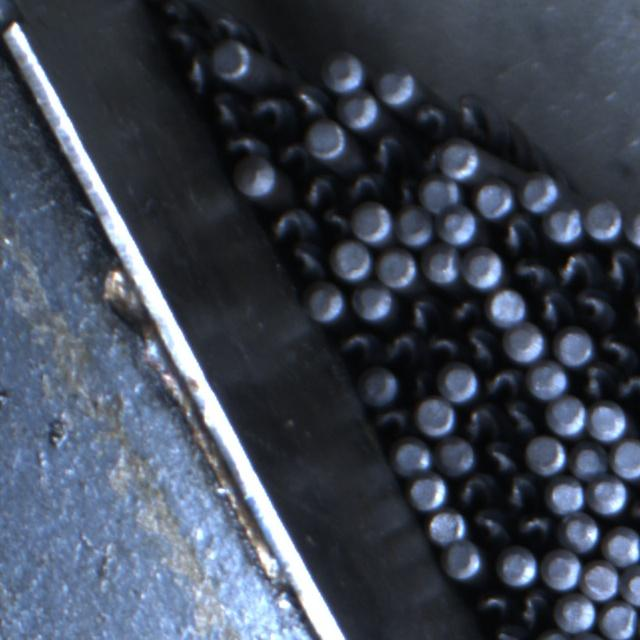tool: (349, 200, 393, 241), (323, 50, 367, 91), (421, 243, 462, 287), (304, 281, 346, 323), (498, 544, 540, 586), (520, 170, 562, 212), (444, 540, 486, 582), (330, 238, 373, 279), (525, 434, 568, 475), (546, 393, 588, 434), (586, 474, 628, 515), (435, 204, 477, 245), (527, 360, 570, 400), (351, 282, 394, 322), (393, 434, 436, 474), (541, 547, 582, 588), (414, 396, 456, 436), (554, 593, 596, 633), (420, 173, 462, 213), (440, 139, 482, 179), (305, 119, 347, 159), (584, 199, 624, 241), (542, 204, 584, 244), (502, 323, 545, 362), (377, 68, 420, 107), (554, 325, 594, 366), (376, 248, 417, 288), (358, 365, 399, 405), (436, 360, 477, 400), (559, 514, 600, 554), (212, 40, 252, 81), (600, 600, 640, 640), (588, 400, 628, 440), (464, 248, 504, 288), (485, 288, 526, 327), (476, 178, 515, 219), (571, 440, 610, 479), (437, 436, 476, 475), (396, 206, 434, 246), (546, 476, 586, 514), (340, 91, 380, 129), (582, 561, 620, 600), (428, 507, 468, 544), (604, 523, 640, 564), (409, 473, 448, 509), (235, 164, 278, 193), (611, 438, 640, 478), (621, 564, 640, 606), (532, 630, 574, 640), (571, 630, 610, 640)
tool_b: (246, 89, 296, 131), (571, 287, 616, 329), (363, 130, 408, 172), (200, 92, 244, 134), (495, 214, 538, 256), (552, 248, 597, 288), (333, 326, 380, 364), (266, 207, 314, 244), (598, 248, 638, 292), (284, 240, 328, 280), (458, 400, 500, 440), (594, 330, 637, 368), (379, 328, 422, 366), (480, 362, 524, 399), (506, 254, 552, 289), (500, 398, 541, 437), (511, 507, 554, 544), (460, 326, 499, 366), (410, 99, 450, 138), (532, 286, 571, 325), (292, 83, 331, 122), (500, 473, 540, 511), (470, 506, 510, 544), (296, 169, 338, 205), (478, 440, 521, 475), (403, 292, 441, 331), (453, 472, 495, 506), (472, 585, 514, 619), (178, 52, 212, 94), (514, 586, 549, 626), (341, 169, 384, 201), (315, 203, 352, 238), (443, 292, 481, 326), (579, 361, 612, 399), (373, 404, 413, 435), (212, 10, 253, 39), (426, 330, 463, 360), (457, 94, 488, 128), (614, 364, 640, 403), (155, 3, 202, 23), (229, 140, 273, 161), (280, 139, 307, 167), (488, 623, 530, 640), (392, 177, 419, 202), (416, 144, 441, 169), (165, 33, 199, 50)
